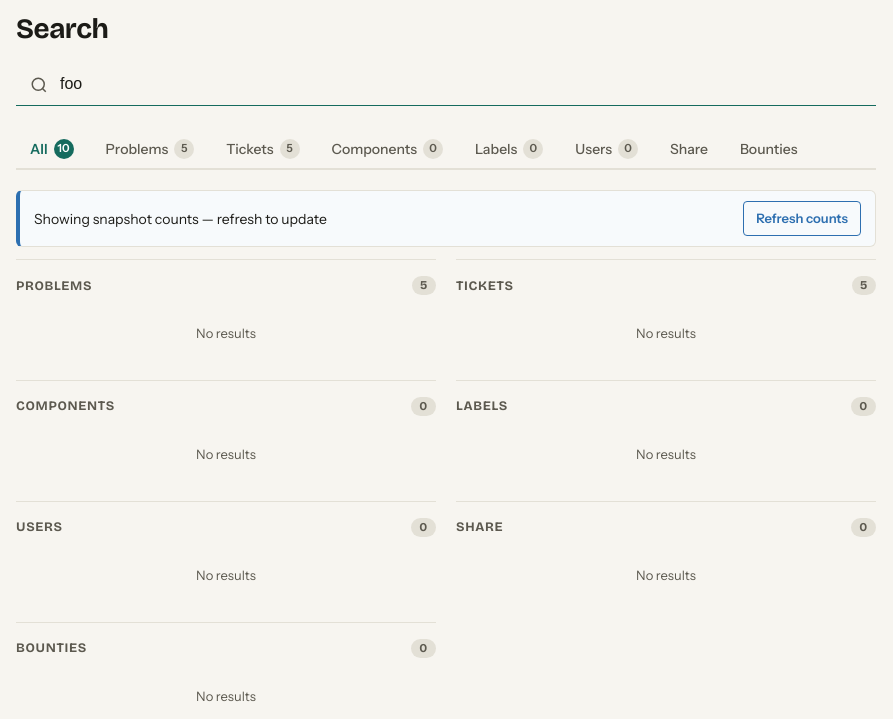
Test case: Search (WP57) — tabbed search page › WP06: snapshot banner renders on the All tab when any arm reports snapshot and Refresh counts broadcasts refresh_total=true
The image size is (893, 719).
Expected: the text "Showing snapshot counts — refresh to update" is shown, [34,210,327,228]
Click the button "Refresh counts".
click(802, 219)  # box [743,201,861,236]
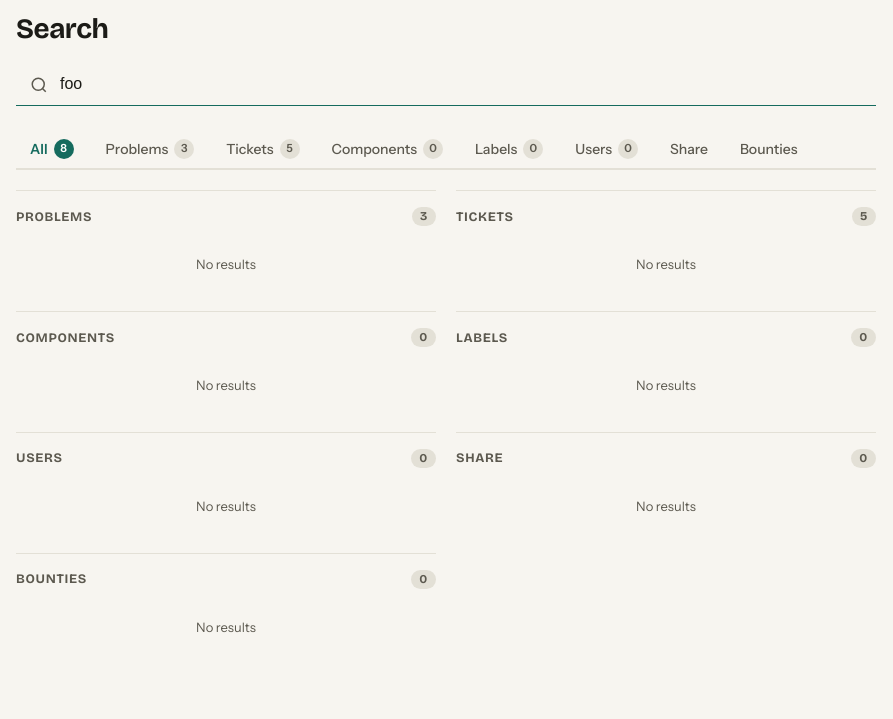
Now the text "snapshot counts" is gone
